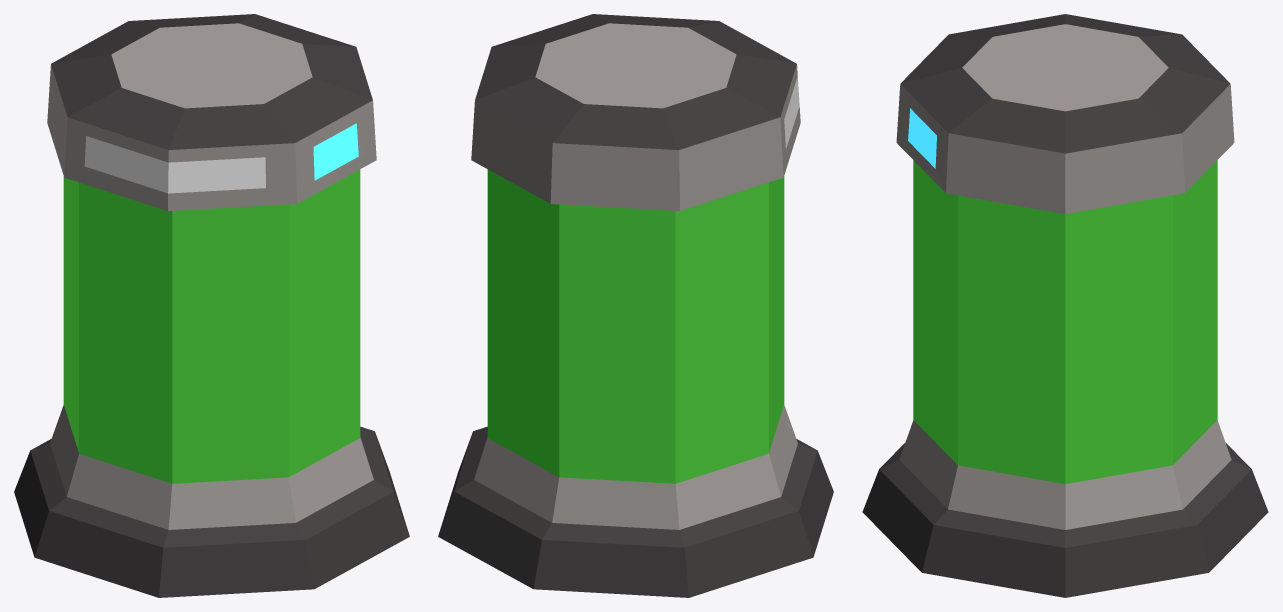
Rendered from scifi_scifi-tube-specimen-small-leaf.fbx.
3 views of the same model, side by side, from view 1: azimuth 30°, elevation 25°; view 2: azimuth 150°, elevation 25°; view 3: azimuth 270°, elevation 25° (orthographic).
Visible parts, largest first — view 1: scifi_scifi_tube_specimen_small_leaf; view 2: scifi_scifi_tube_specimen_small_leaf; view 3: scifi_scifi_tube_specimen_small_leaf.
Boxes of the visible parts, left/top/right/bottom form: scifi_scifi_tube_specimen_small_leaf: left=14, top=14, right=409, bottom=597; scifi_scifi_tube_specimen_small_leaf: left=438, top=14, right=833, bottom=597; scifi_scifi_tube_specimen_small_leaf: left=862, top=14, right=1268, bottom=597.
Bounding box in the file's own units: 166 × 200 × 166.
